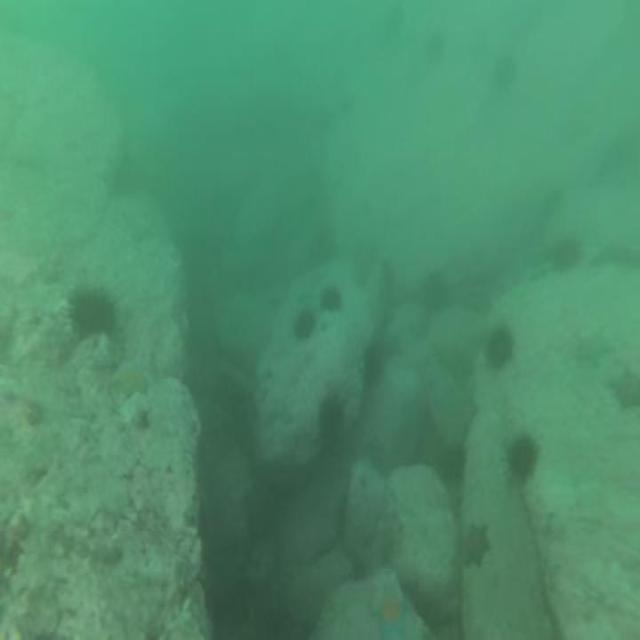echinus: (67, 281, 119, 343), (502, 427, 540, 485), (484, 322, 516, 373), (318, 389, 347, 439), (551, 230, 582, 276), (420, 266, 449, 314), (424, 24, 450, 70), (443, 438, 468, 483), (292, 305, 319, 344), (493, 51, 518, 93), (363, 340, 385, 387), (316, 281, 343, 318)
starfish: (369, 584, 411, 640), (609, 358, 640, 416), (462, 518, 491, 572)
